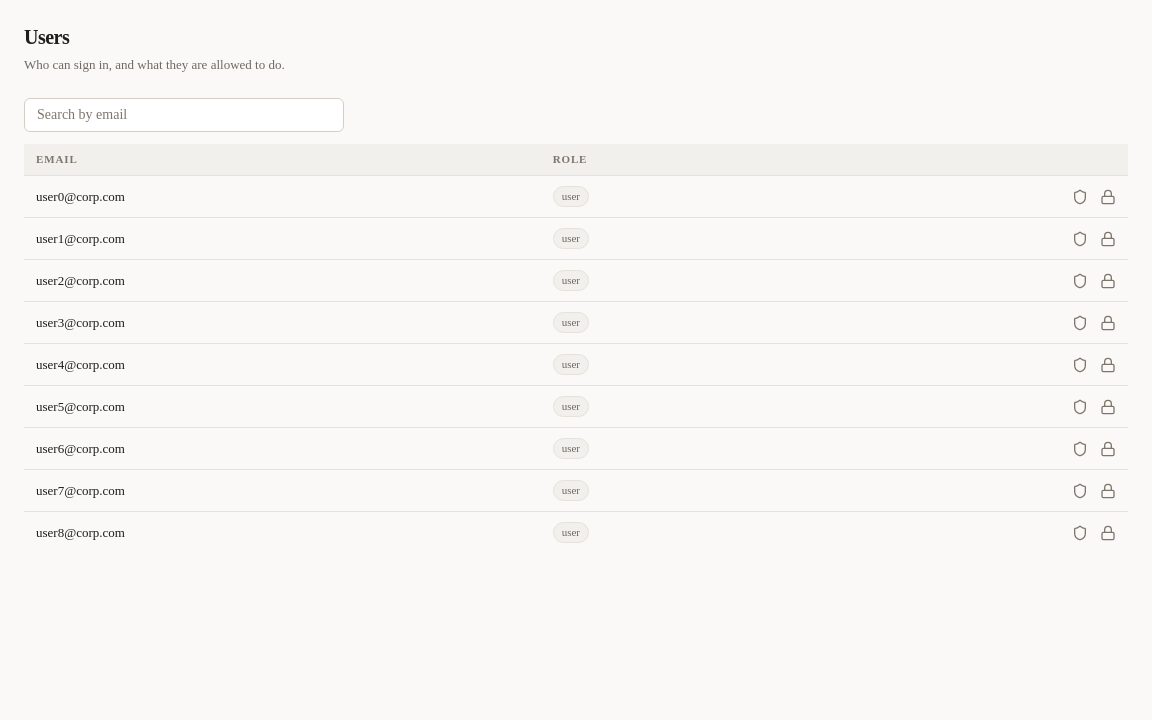
Test case: UsersManager › filters by email
The image size is (1152, 720).
Type "user3" into the field named "Search accounts". click: (184, 115)
box: [24, 98, 344, 132]
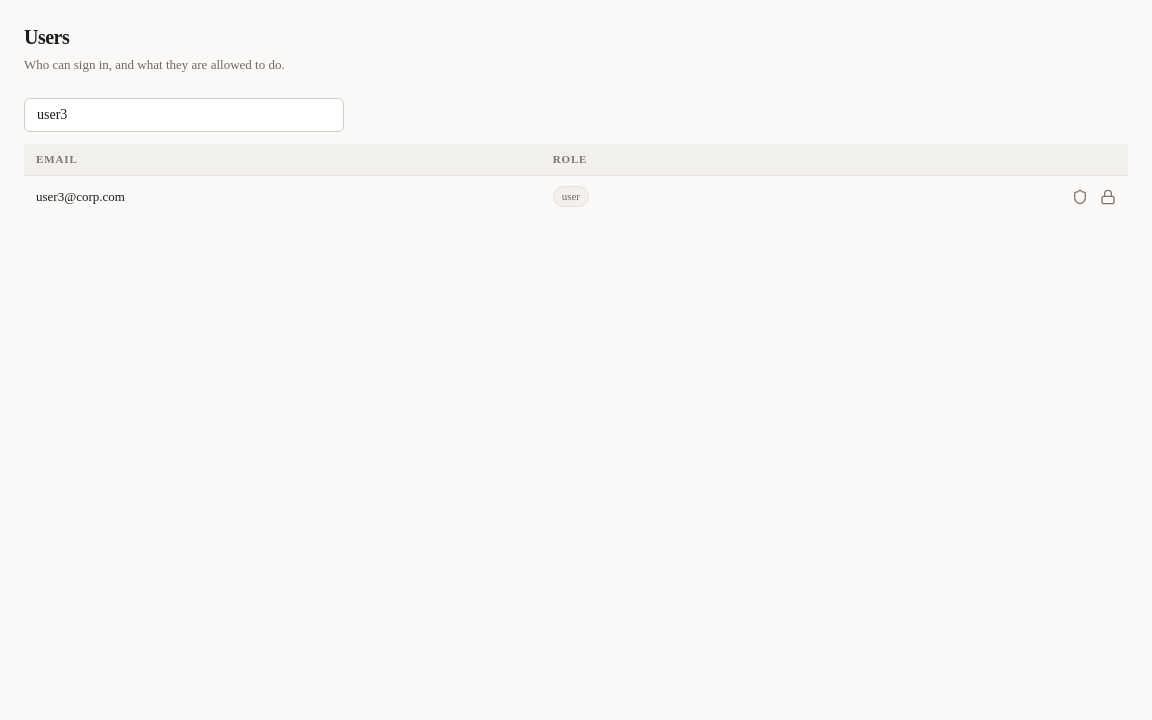
Expected: the text "user3@corp.com" is shown, [36, 189, 125, 204]
Expected: the text "user4@corp.com" is gone
